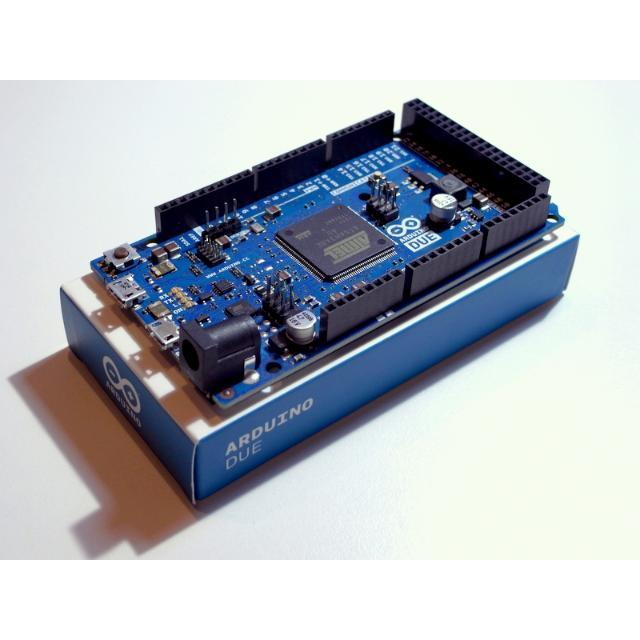Arduino-Due: (92, 101, 562, 406)
